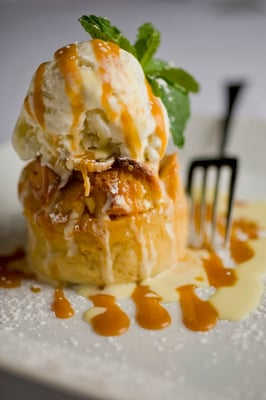soup: (10, 40, 180, 292)
